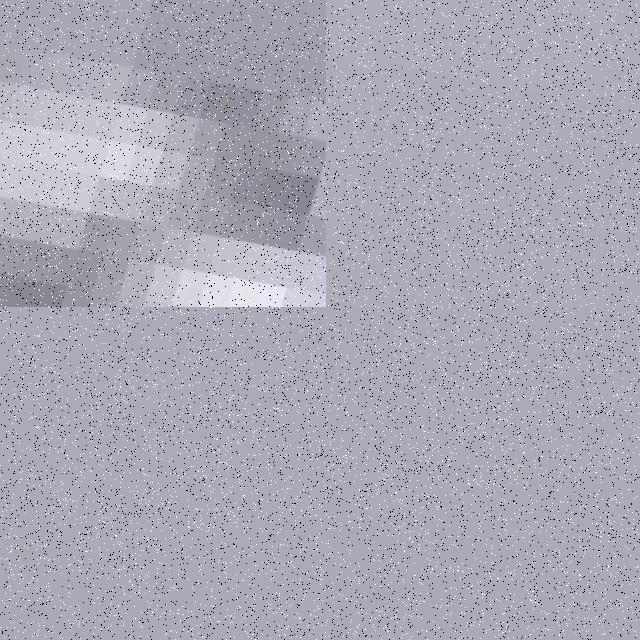drone: (0, 0, 326, 307)
